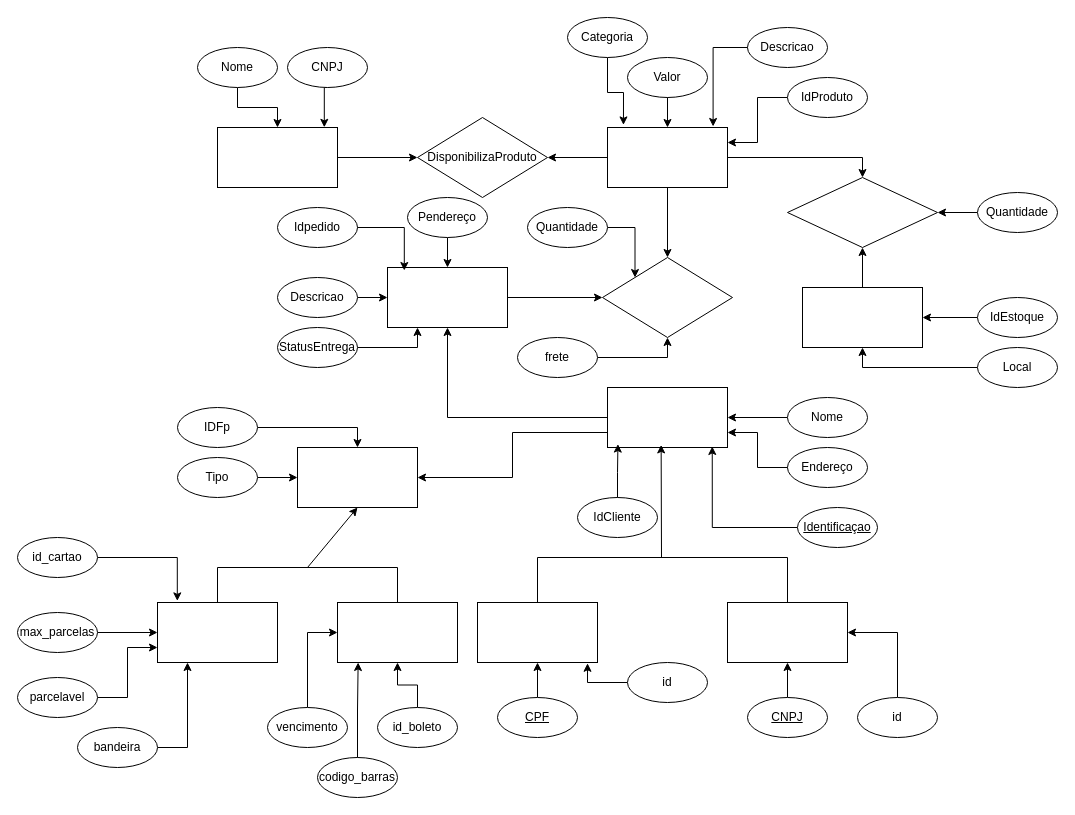
Image size: 1075x815. Some labels were removed from this diagram. The shapes that lost their labels are listed below. From the top down, each one's centre as x and y in pixels, then its label:
the point at 277,157: Fornecedor
the point at 667,157: Produto
the point at 862,212: Estoqueproduto
the point at 447,297: Pedido
the point at 667,297: ProdutoPorPedido
the point at 862,317: Estoque
the point at 667,417: Cliente
the point at 357,477: FormaPagamento
the point at 217,632: Cartao
the point at 397,632: Boleto
the point at 537,632: PessoaFisica
the point at 787,632: PessoaJuridica
